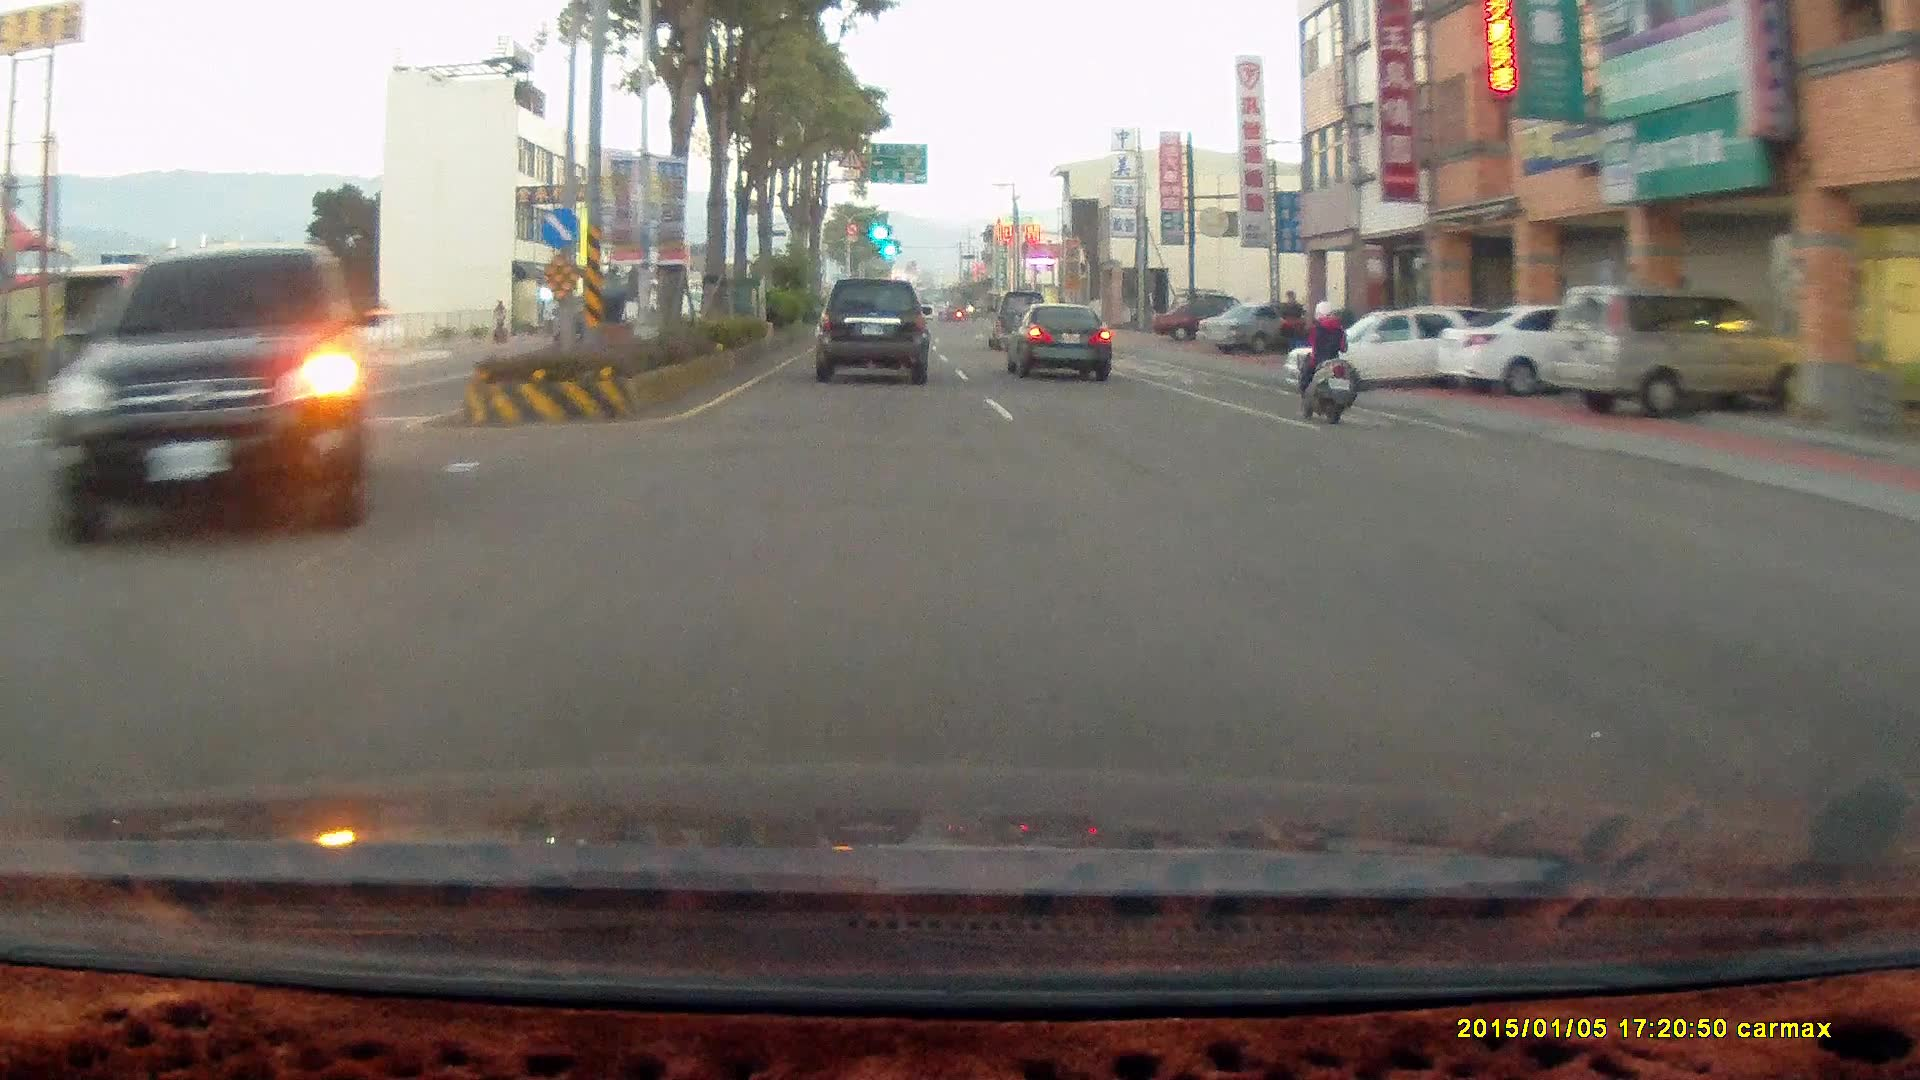pedestrian: (1274, 290, 1305, 367)
rider: (1283, 292, 1370, 432), (1291, 298, 1356, 425)
vehicle: (28, 244, 396, 544), (34, 245, 357, 550), (1538, 282, 1808, 430), (1542, 283, 1815, 418), (1435, 302, 1677, 400), (1285, 309, 1512, 405), (1431, 299, 1642, 395), (1283, 307, 1486, 394), (814, 278, 933, 387), (814, 278, 931, 387), (1007, 304, 1123, 384), (1004, 301, 1109, 381), (1197, 303, 1318, 359), (1197, 302, 1318, 356), (1152, 299, 1262, 342), (984, 289, 1050, 349)
